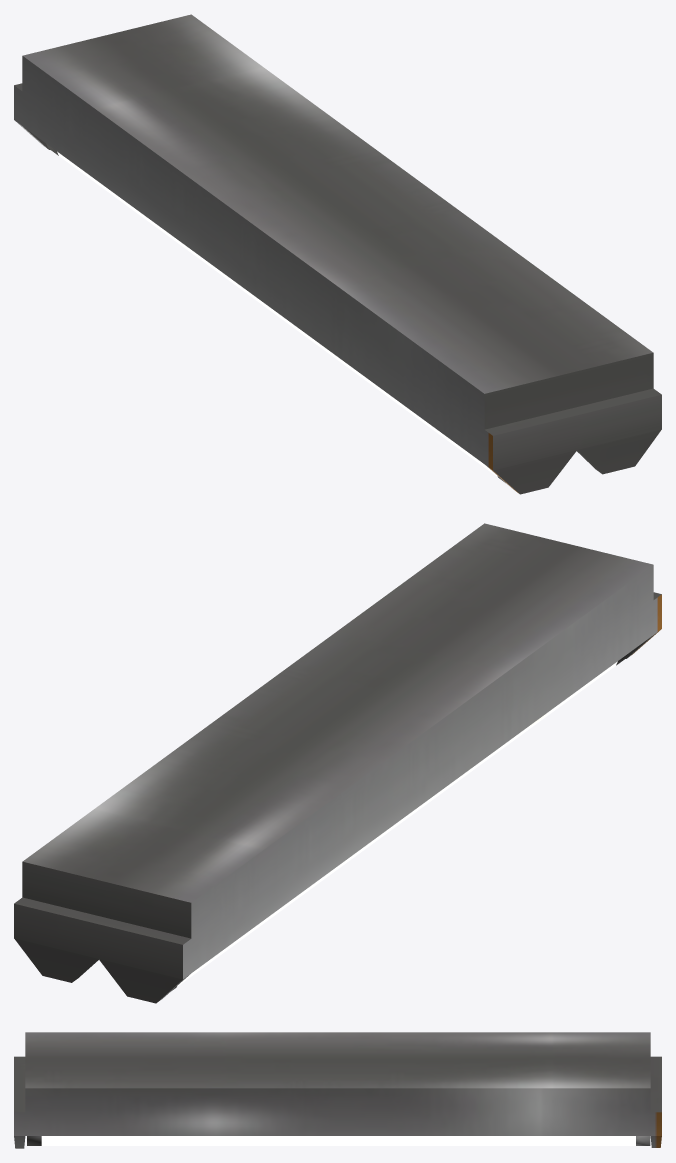
Rendered from ceiling_lightB.fbx.
3 views of the same model, one above another, from view 1: azimuth 30°, elevation 25°; view 2: azimuth 150°, elevation 25°; view 3: azimuth 270°, elevation 25° (orthographic). The views are drawn at different scales.
Parts seen in each view (by area): view 1: ceiling_lightB; view 2: ceiling_lightB; view 3: ceiling_lightB.
Part boxes in pixels (x1,y1,x2,y2): ceiling_lightB: (14,14,661,494); ceiling_lightB: (14,523,661,1003); ceiling_lightB: (14,1032,661,1148).
Size of the model in its own units: 35.71 by 21.23 by 175.
1 material, 1 textured.
